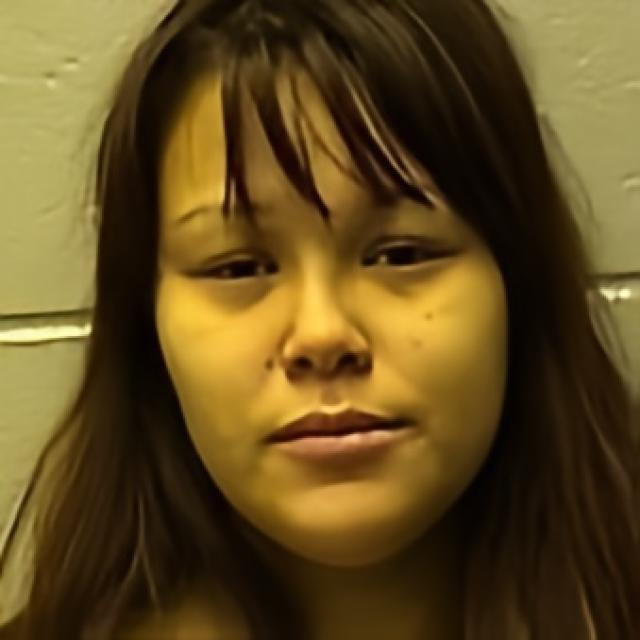sad: (149, 52, 508, 546)
